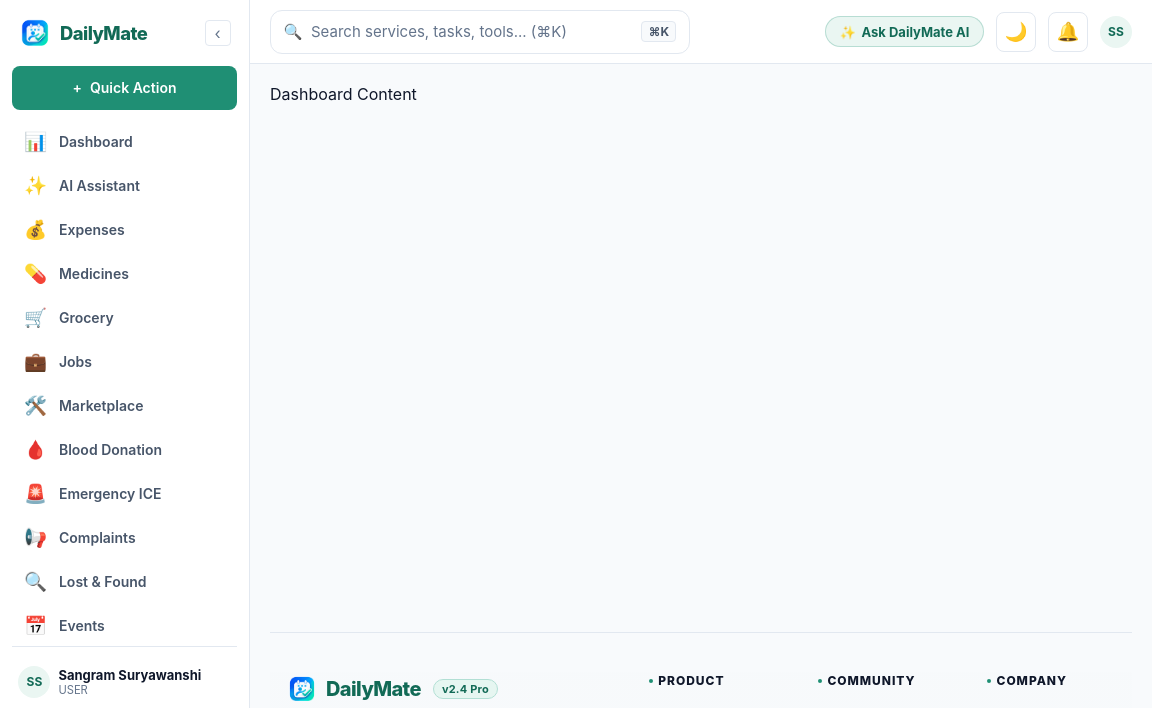
MainLayout — Responsive Application Shell & Global Navigation › opens Universal Quick Action modal on Quick Action click
Click the button with aria-label "Universal Quick Actions": click(124, 88) [12,66,237,110]
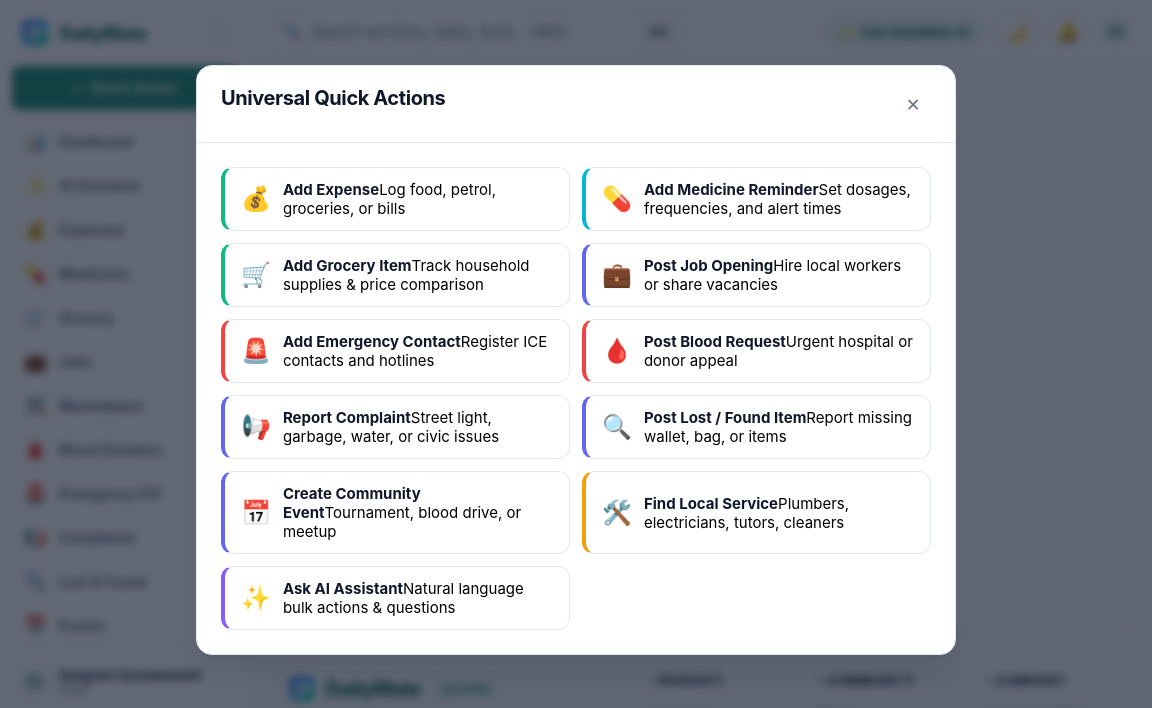
Check: the heading "Universal Quick Actions" is shown, box [221,86,445,110]
Check: the text "Add Expense" is shown, box [283,180,379,199]
Check: the text "Add Medicine Reminder" is shown, box [644,180,819,199]
